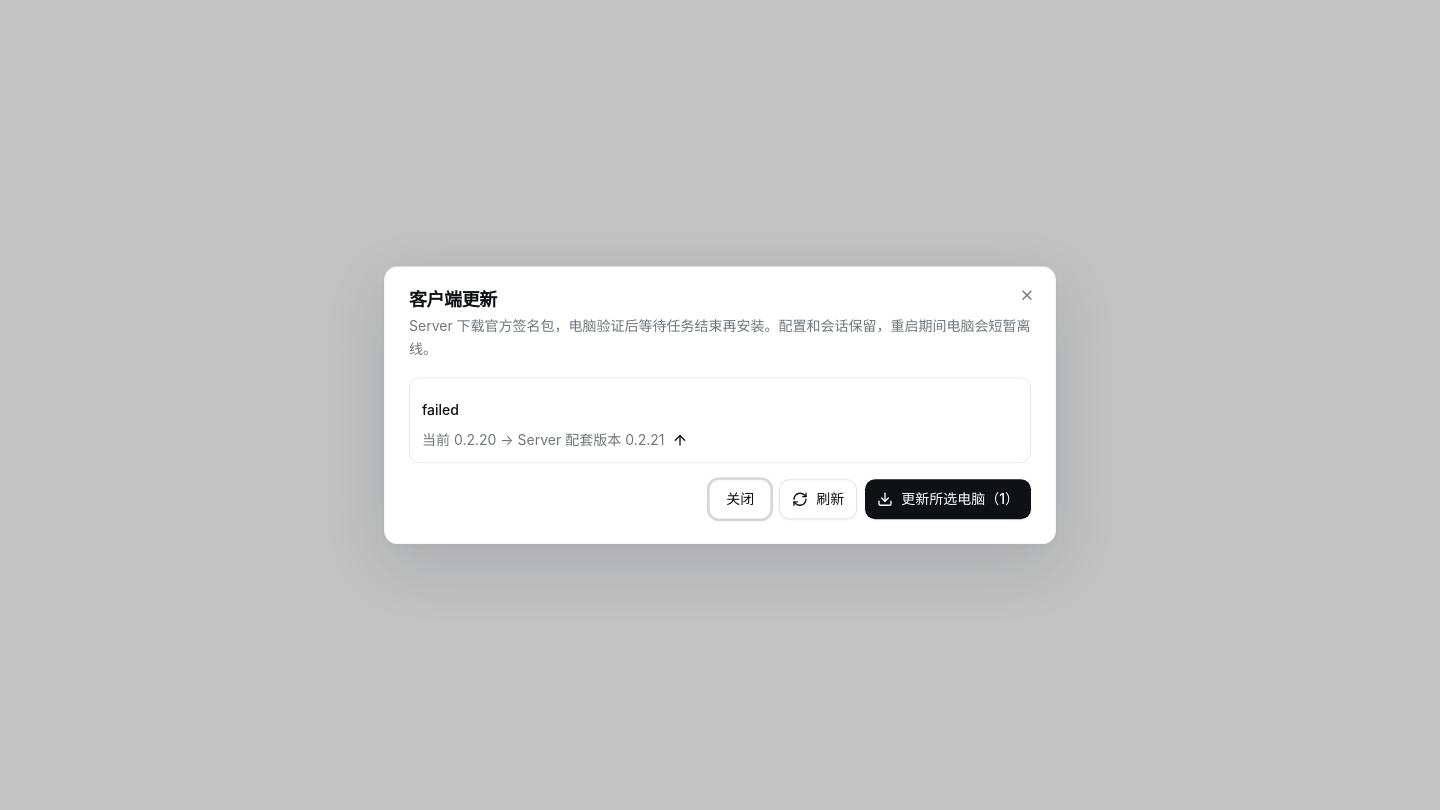
keeps an update action error visible when passive status reads succeed
The image size is (1440, 810).
Click the button "更新所选电脑（1）" at {"x": 948, "y": 499}, box [865, 479, 1031, 519]
Wait 3000 ms
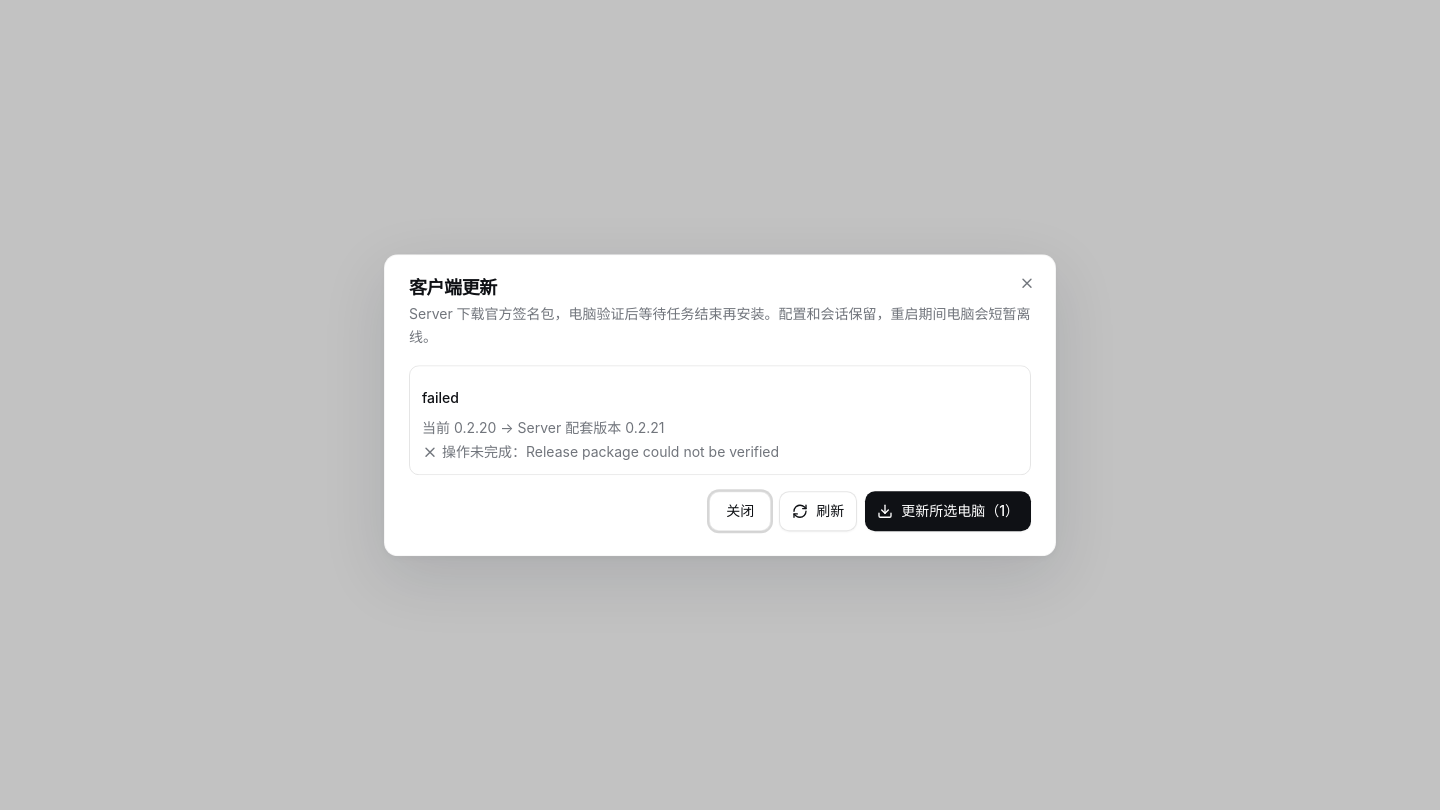
Expected: the dialog shows "Release package could not be verified", [442, 443, 779, 460]
